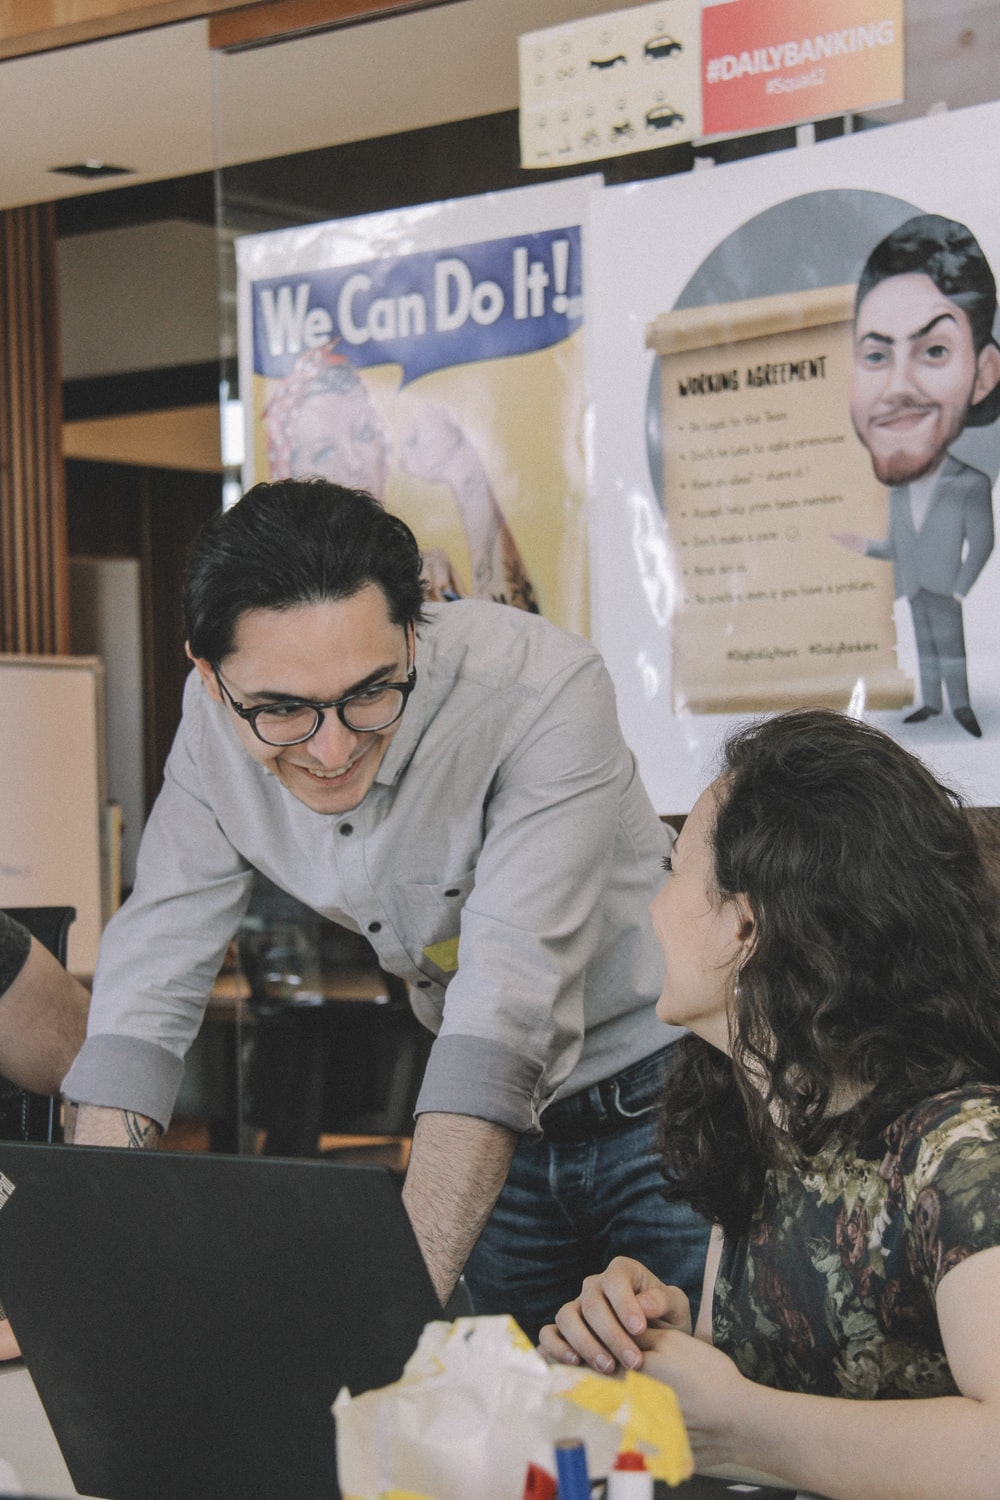face: (114, 510, 444, 840), (555, 742, 862, 1049), (762, 267, 987, 492)
